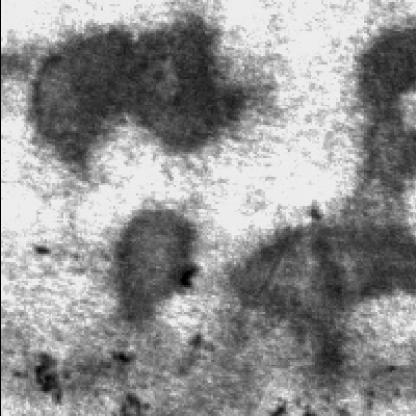inclusion: (27, 344, 77, 402)
patches: (17, 1, 280, 172), (223, 202, 416, 337), (108, 191, 208, 331), (358, 12, 416, 208)
